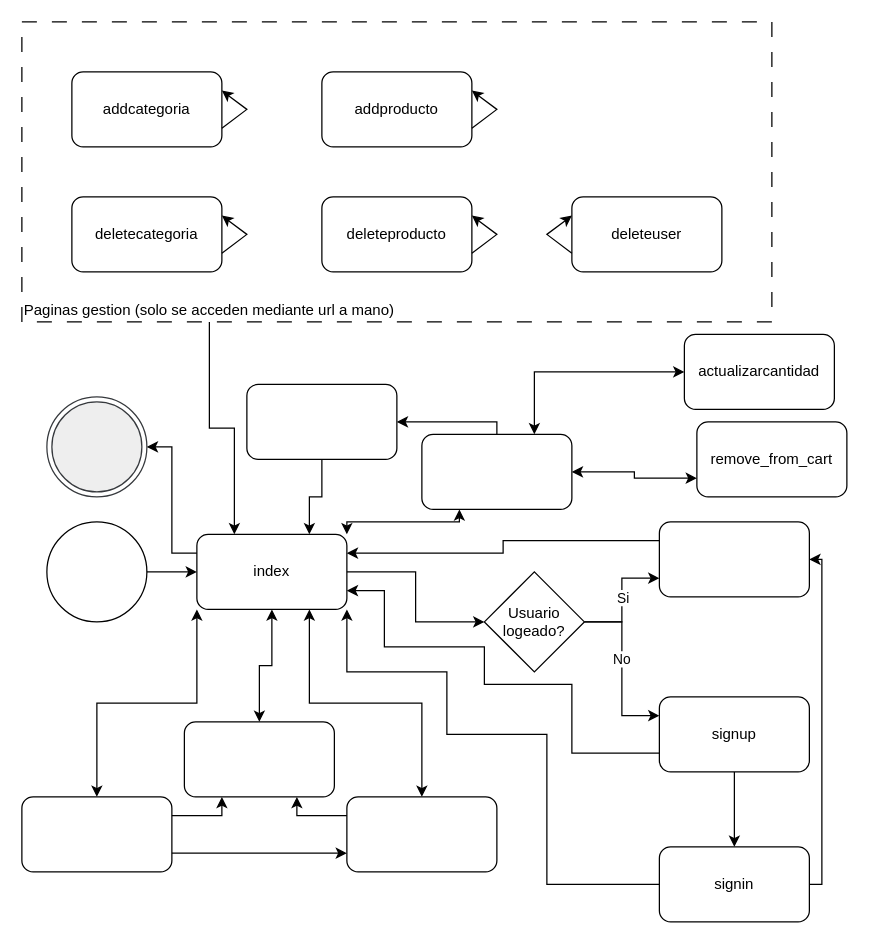
Some shapes in this 869 by 944 pixel diagram are drawn without their labels. The centre of each missing label's shape, as x and y in pixels:
"add_to_cart" belongs at point 258,759.
"carrito" belongs at point 496,471.
"categoria" belongs at point 96,834.
"checkout" belongs at point 321,421.
"productos" belongs at point 421,834.
"user" belongs at point 733,559.
